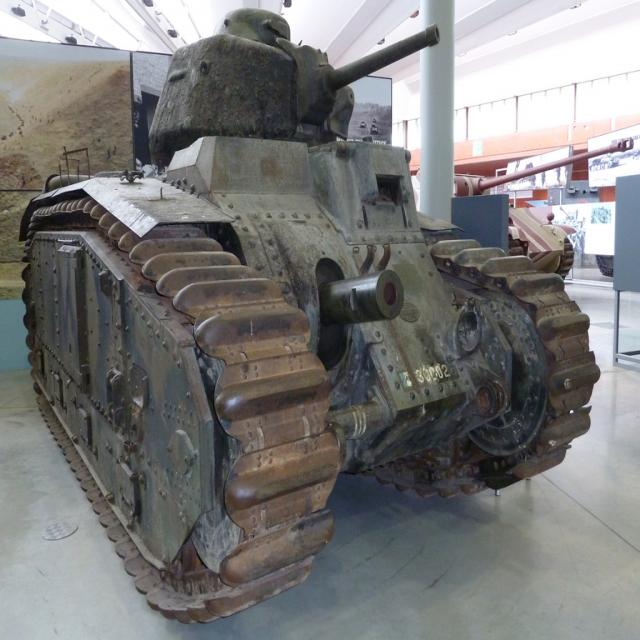tank: (18, 7, 601, 625), (410, 138, 635, 280)
